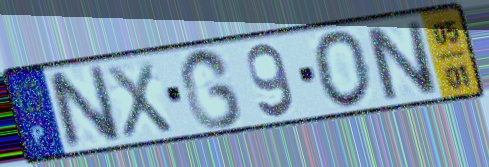9: (243, 40, 297, 122)
G: (176, 45, 246, 132)
N: (42, 61, 125, 153), (360, 18, 443, 104)
O: (311, 27, 374, 111)
X: (103, 58, 177, 142)
